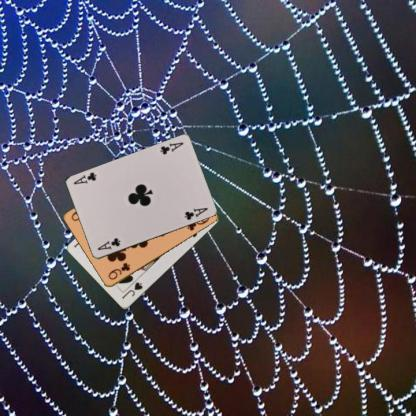9c: (106, 260, 131, 281)
Ac: (157, 140, 185, 156), (95, 235, 121, 251)
Js: (119, 280, 144, 300)
